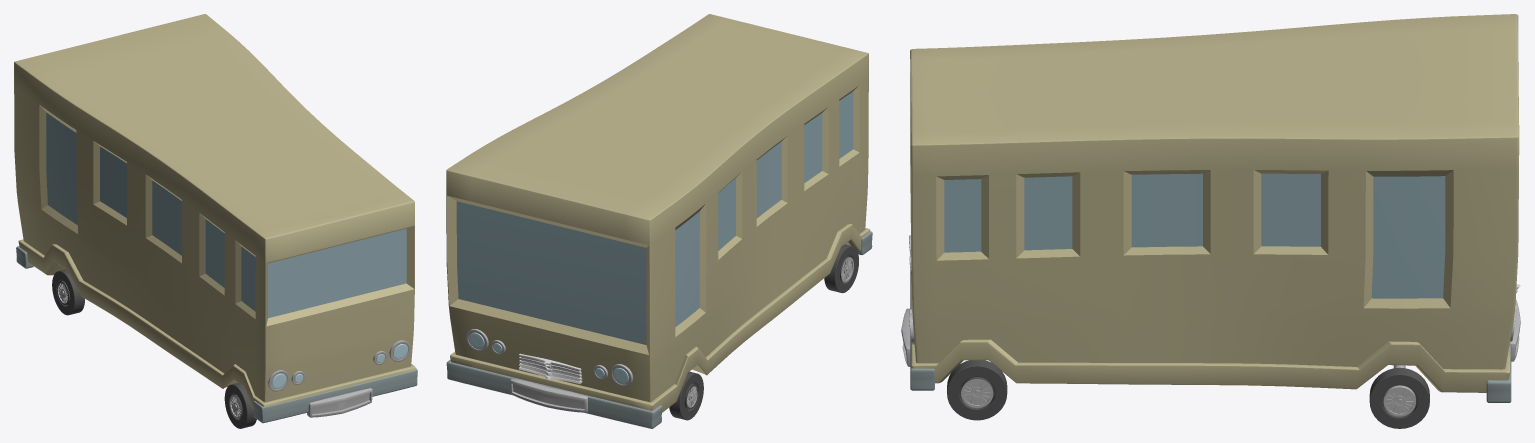
File: Bus.fbx
3 renders of one model, left to right at view 1: azimuth 30°, elevation 25°; view 2: azimuth 150°, elevation 25°; view 3: azimuth 270°, elevation 25°, orthographic. The views are drawn at different scales.
Parts seen in each view (by area): view 1: Bus, Bumper Back, Number Plate Front.004, Lights Front.002, Wheels Front.002, Wheels Front.001; view 2: Bus, Bumper Back.001, Number Plate Front.003, Lights Front.001, Wheels Front.002, Grill.001, Wheels Front.001; view 3: Bus, Wheels Front.001, Wheels Front.002, Bumper Back.001, Bumper Back.
Boxes of the visible parts, <box> form: Bus: <box>14,14,415,409</box>; Bumper Back: <box>253,368,417,423</box>; Number Plate Front.004: <box>307,388,372,417</box>; Lights Front.002: <box>268,340,410,391</box>; Wheels Front.002: <box>224,383,256,428</box>; Wheels Front.001: <box>52,269,84,315</box>; Bus: <box>446,14,870,412</box>; Bumper Back.001: <box>446,359,662,428</box>; Number Plate Front.003: <box>510,378,587,412</box>; Lights Front.001: <box>466,329,633,386</box>; Wheels Front.002: <box>824,244,858,293</box>; Grill.001: <box>519,353,582,384</box>; Wheels Front.001: <box>669,371,703,420</box>; Bus: <box>910,14,1519,392</box>; Wheels Front.001: <box>1369,367,1429,428</box>; Wheels Front.002: <box>947,360,1007,420</box>; Bumper Back.001: <box>1486,342,1511,402</box>; Bumper Back: <box>910,270,934,390</box>.
Bounding box in the file's own units: 1307 × 1419 × 2708.
